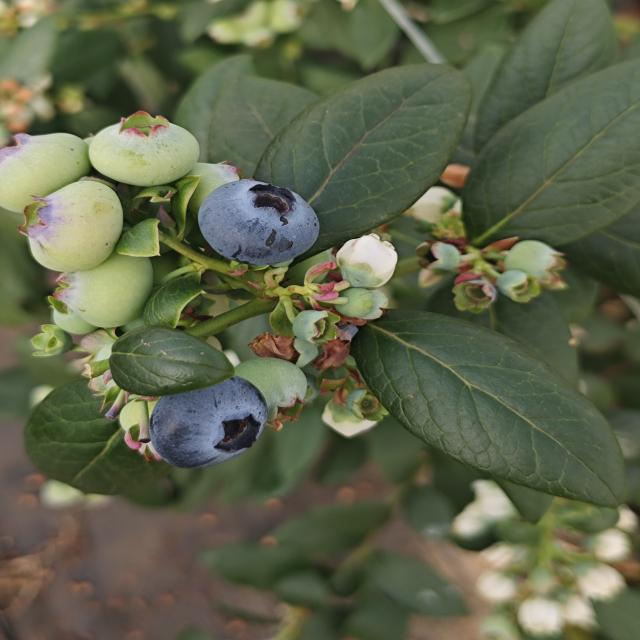ripe: (189, 176, 329, 270), (134, 375, 268, 469)
